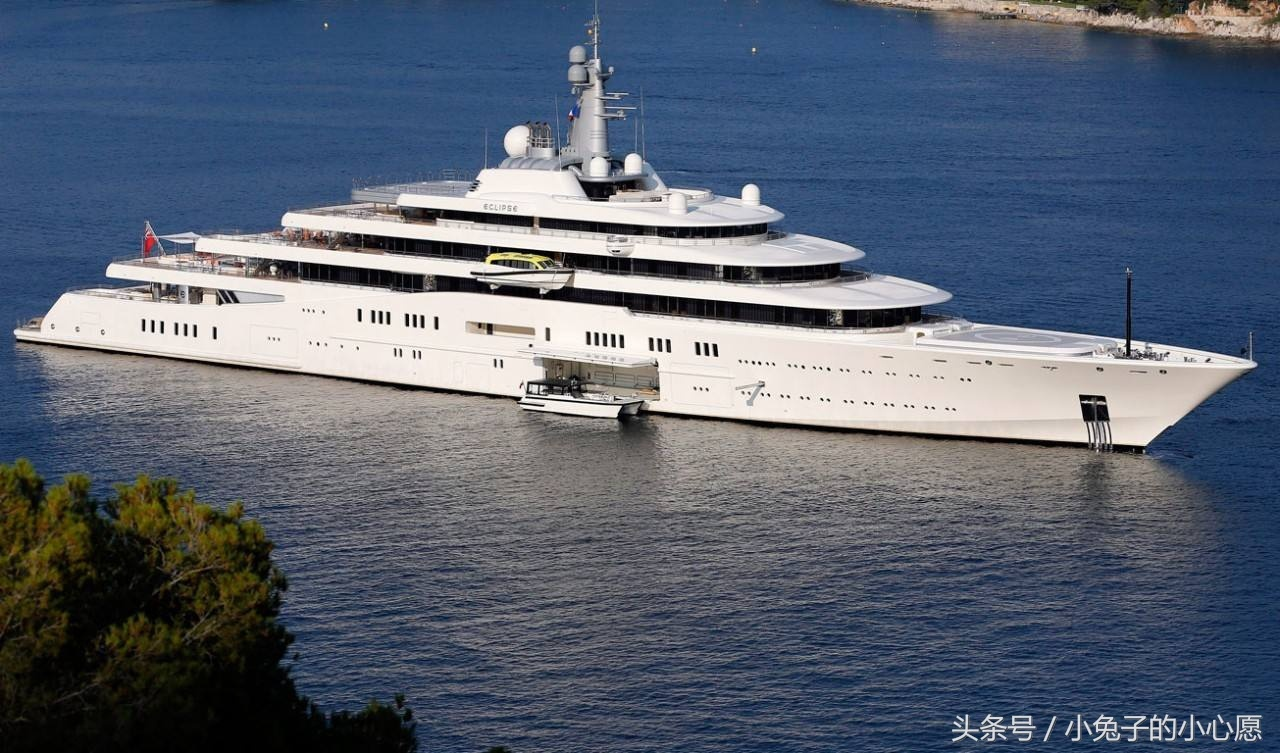yacht: (11, 24, 1251, 458)
